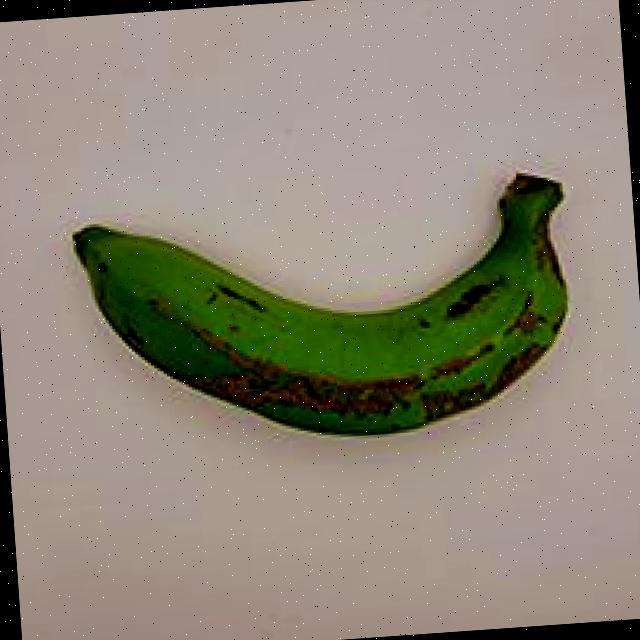Raw: (60, 134, 607, 488)
